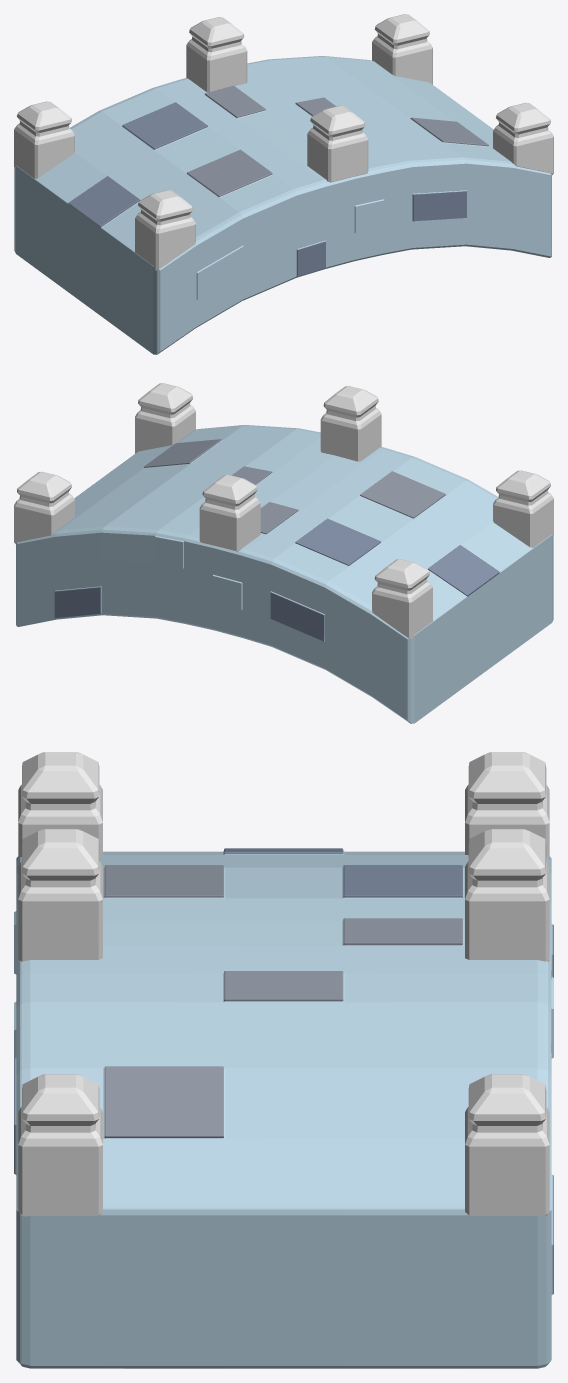
File: Bridge.fbx
3 renders of one model, top to bottom at view 1: azimuth 30°, elevation 25°; view 2: azimuth 150°, elevation 25°; view 3: azimuth 270°, elevation 25°, orthographic. The views are drawn at different scales.
Visible parts, largest first — view 1: Cube, Cube.003, Cube.001, Cube.005; view 2: Cube, Cube.003, Cube.001, Cube.005; view 3: Cube, Cube.005, Cube.003, Cube.001.
Boxes of the visible parts, bbox=[...] form: Cube: bbox=[14, 56, 551, 354]; Cube.003: bbox=[186, 17, 368, 182]; Cube.001: bbox=[14, 101, 195, 270]; Cube.005: bbox=[372, 14, 553, 174]; Cube: bbox=[16, 425, 553, 723]; Cube.003: bbox=[199, 386, 381, 551]; Cube.001: bbox=[372, 470, 553, 639]; Cube.005: bbox=[14, 383, 195, 543]; Cube: bbox=[14, 848, 553, 1368]; Cube.005: bbox=[18, 1074, 549, 1216]; Cube.003: bbox=[18, 829, 549, 961]; Cube.001: bbox=[18, 752, 549, 857].
Bounding box in the file's own units: 478 × 219 × 304.
